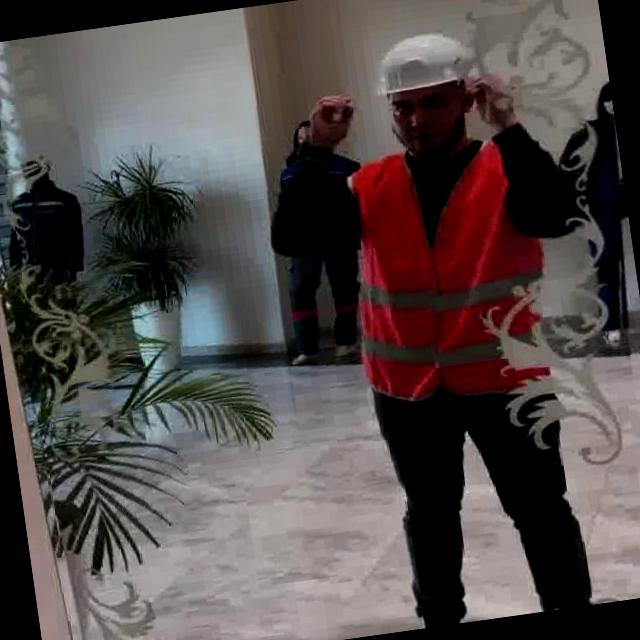vest: (334, 130, 563, 420)
